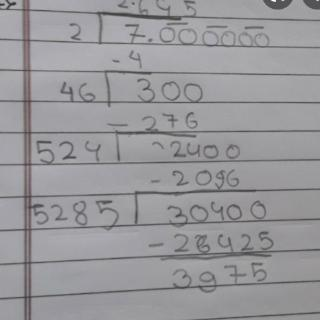.: (146, 33, 156, 42)
0: (249, 196, 271, 221), (160, 77, 182, 101), (157, 23, 176, 45)
2: (65, 16, 87, 43), (123, 18, 145, 43)
3: (164, 200, 189, 229), (136, 74, 157, 103)
4: (79, 134, 103, 162), (208, 196, 226, 223), (56, 79, 76, 102), (128, 46, 145, 69)
5: (94, 194, 121, 232), (34, 134, 58, 164), (248, 261, 270, 284)
6: (181, 109, 204, 130), (77, 80, 98, 102), (225, 166, 241, 188)
7: (221, 262, 245, 289), (159, 107, 178, 129)
8: (71, 197, 91, 229)
9: (195, 269, 218, 295), (212, 165, 226, 190)
